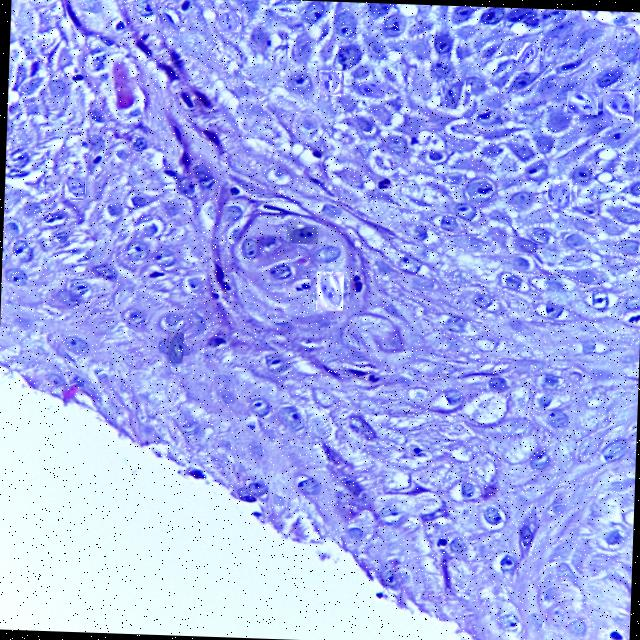Multiple Nucleol: (316, 270, 343, 310), (603, 89, 634, 121), (516, 41, 540, 70), (567, 90, 597, 113), (444, 79, 465, 108), (552, 178, 571, 207), (286, 225, 318, 242), (358, 81, 387, 99), (167, 330, 183, 362), (320, 69, 340, 94), (219, 9, 241, 30), (65, 178, 84, 198)
